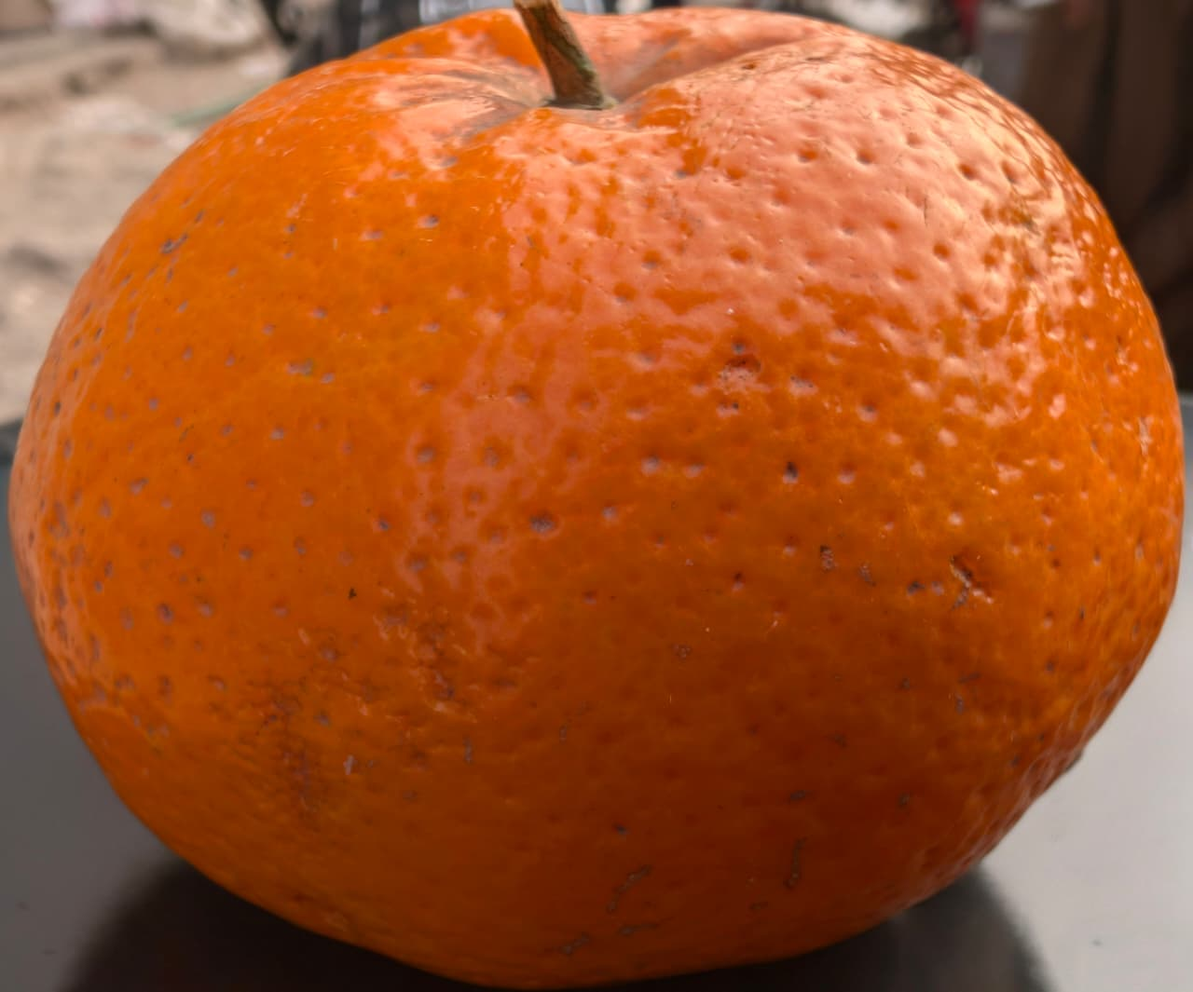orange: (169, 81, 1132, 940)
